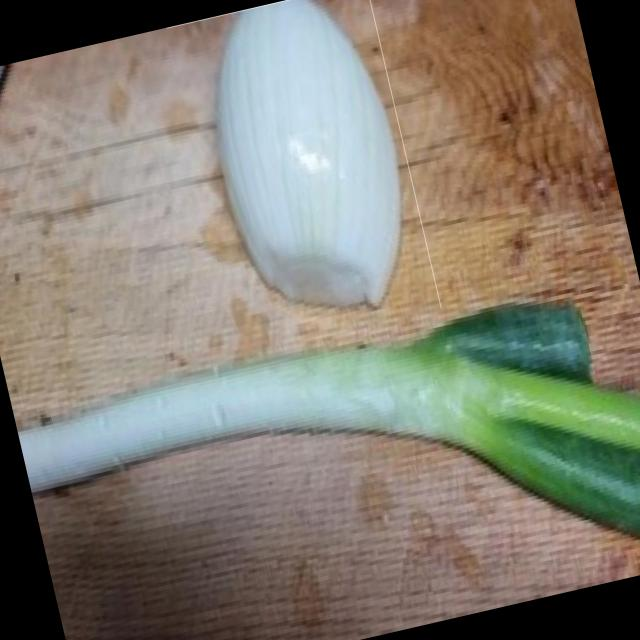Onion: (166, 0, 441, 353)
